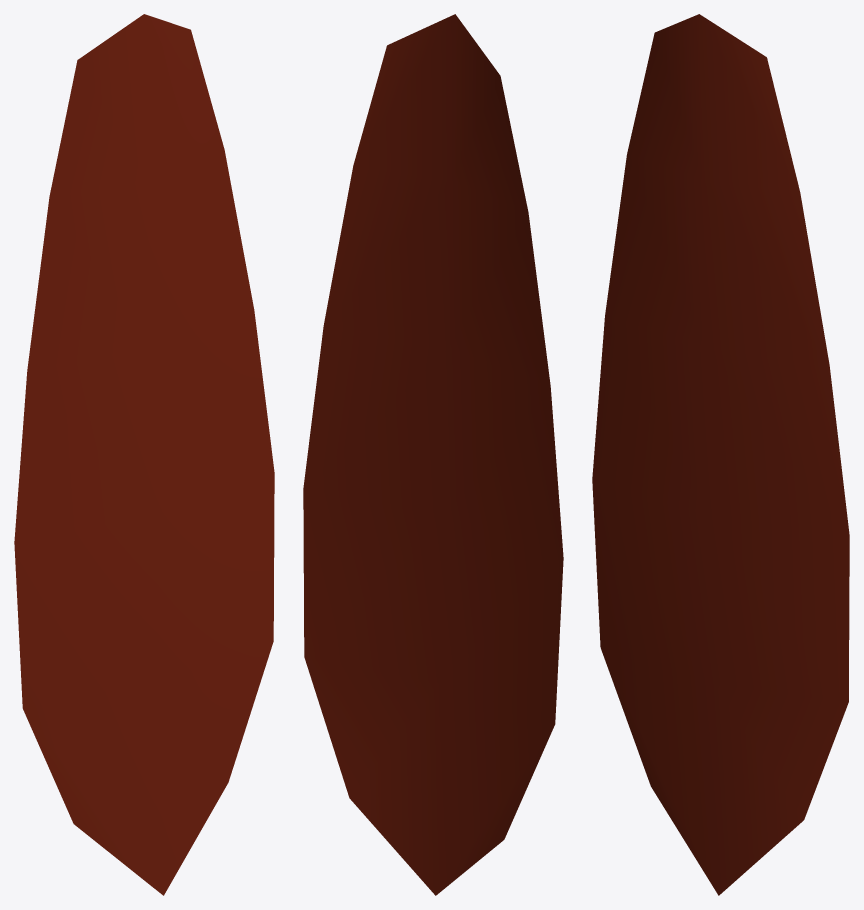
File: pheasant_feather_flight_tertiary_021.obj
The picture shows the model from 3 angles, left to right: view 1: azimuth 30°, elevation 25°; view 2: azimuth 150°, elevation 25°; view 3: azimuth 330°, elevation 25°; orthographic projection.
Parts seen in each view (by area): view 1: feather_flight_tertiary_021; view 2: feather_flight_tertiary_021; view 3: feather_flight_tertiary_021.
Part boxes in pixels (x1,y1,x2,y2): feather_flight_tertiary_021: (14,14,274,895); feather_flight_tertiary_021: (303,14,563,895); feather_flight_tertiary_021: (592,14,849,895).
Bounding box in the file's own units: 0.00887 × 0.0289 × 0.000634.
